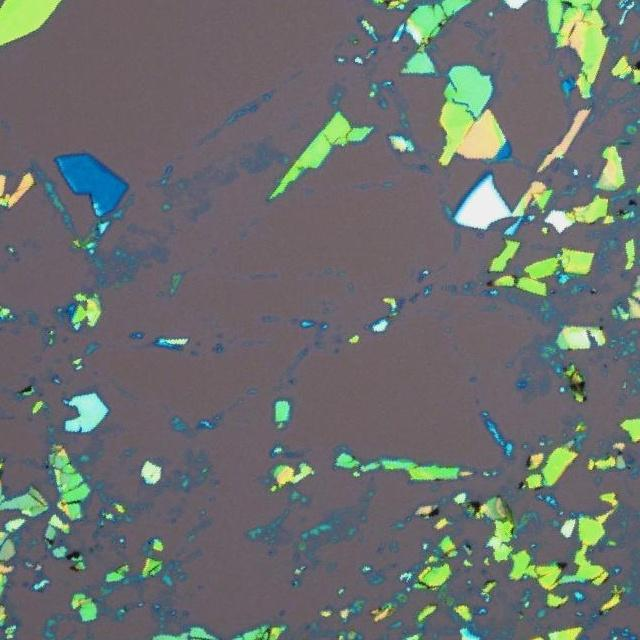monolayer-eWW4: (452, 168, 489, 214)
